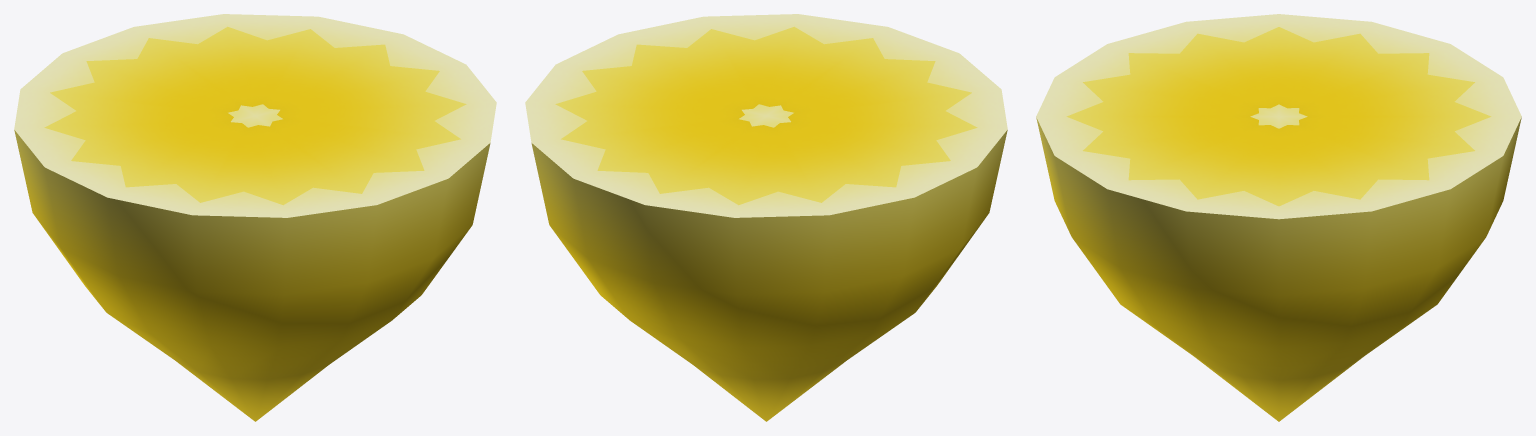
File: Fbx_Fruit_Lemon.fbx
3 views of the same model, side by side, from view 1: azimuth 30°, elevation 25°; view 2: azimuth 150°, elevation 25°; view 3: azimuth 270°, elevation 25° (orthographic).
Parts seen in each view (by area): view 1: Lemon Half; view 2: Lemon Half; view 3: Lemon Half.
Boxes of the visible parts, left/top/right/bottom form: Lemon Half: left=14, top=14, right=496, bottom=421; Lemon Half: left=525, top=14, right=1007, bottom=421; Lemon Half: left=1036, top=14, right=1521, bottom=421.
Bounding box in the file's own units: 2 × 1.39 × 2.
